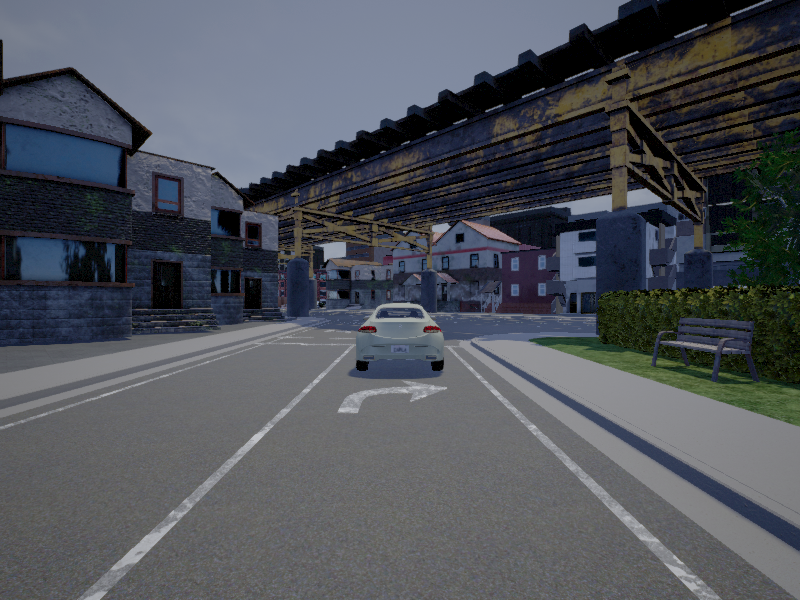Benign: (354, 302, 443, 372)
